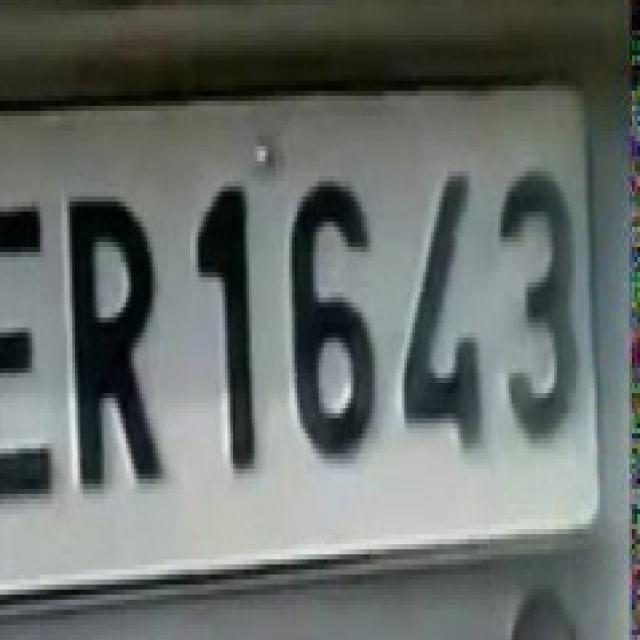1: (189, 157, 267, 498)
3: (491, 154, 586, 448)
4: (395, 143, 492, 470)
6: (286, 143, 380, 481)
R: (58, 170, 172, 510)
